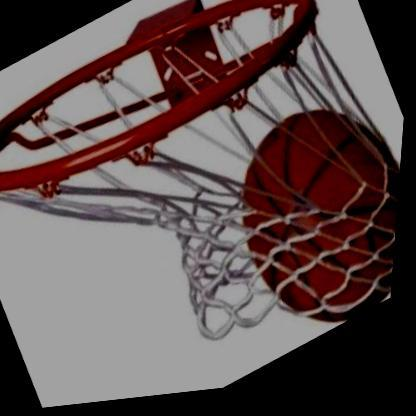basketball: (205, 72, 410, 365)
